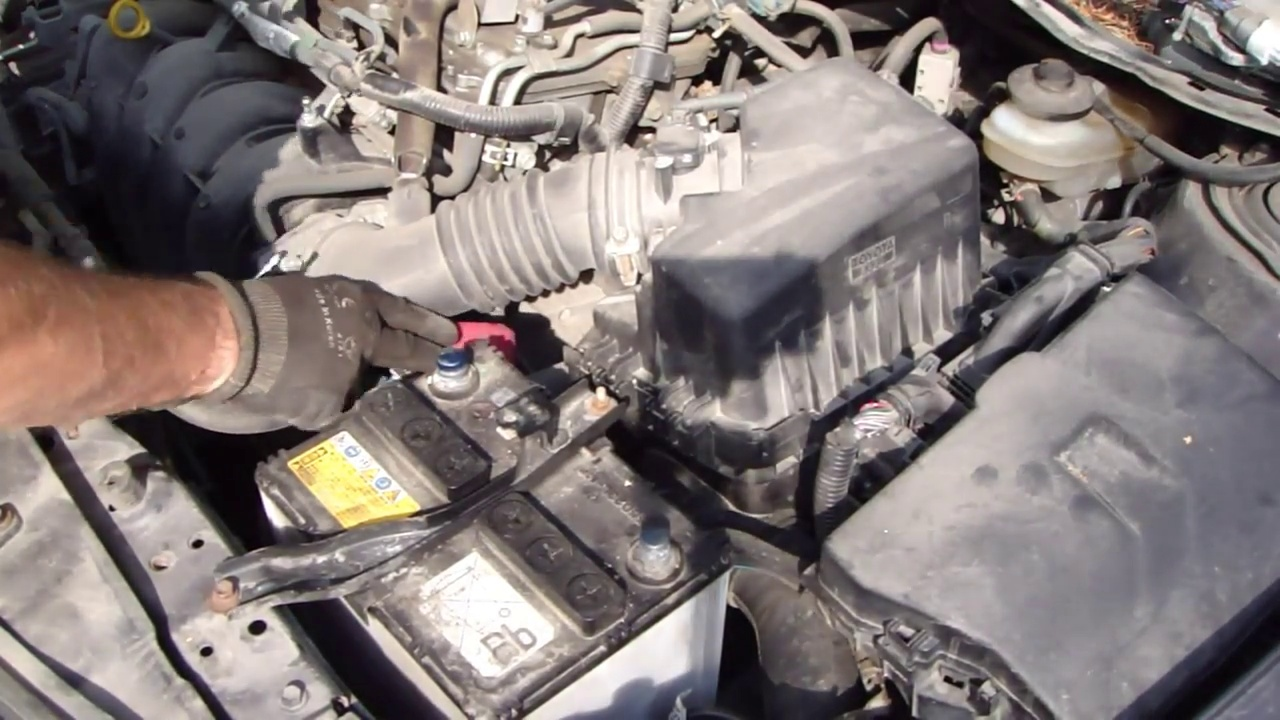battery: (260, 346, 719, 685)
neg_disconnected: (609, 491, 696, 596)
pos_disconnected: (393, 296, 523, 420)
pos_touched: (279, 260, 554, 433)
